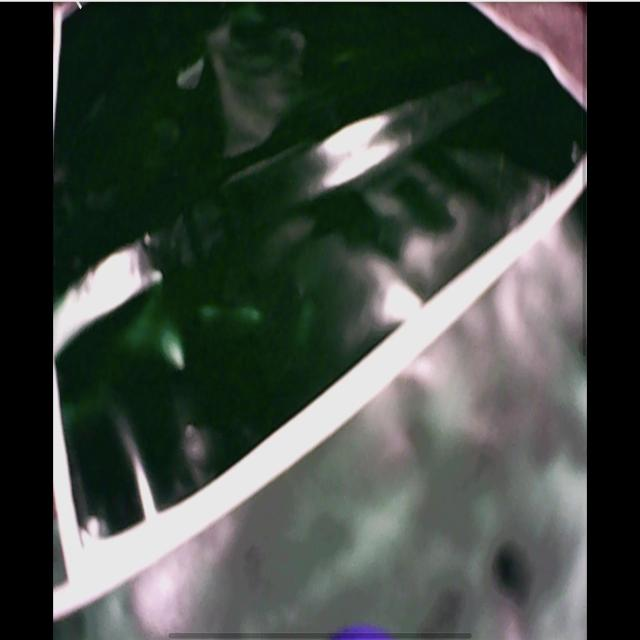ball: (330, 616, 394, 638)
